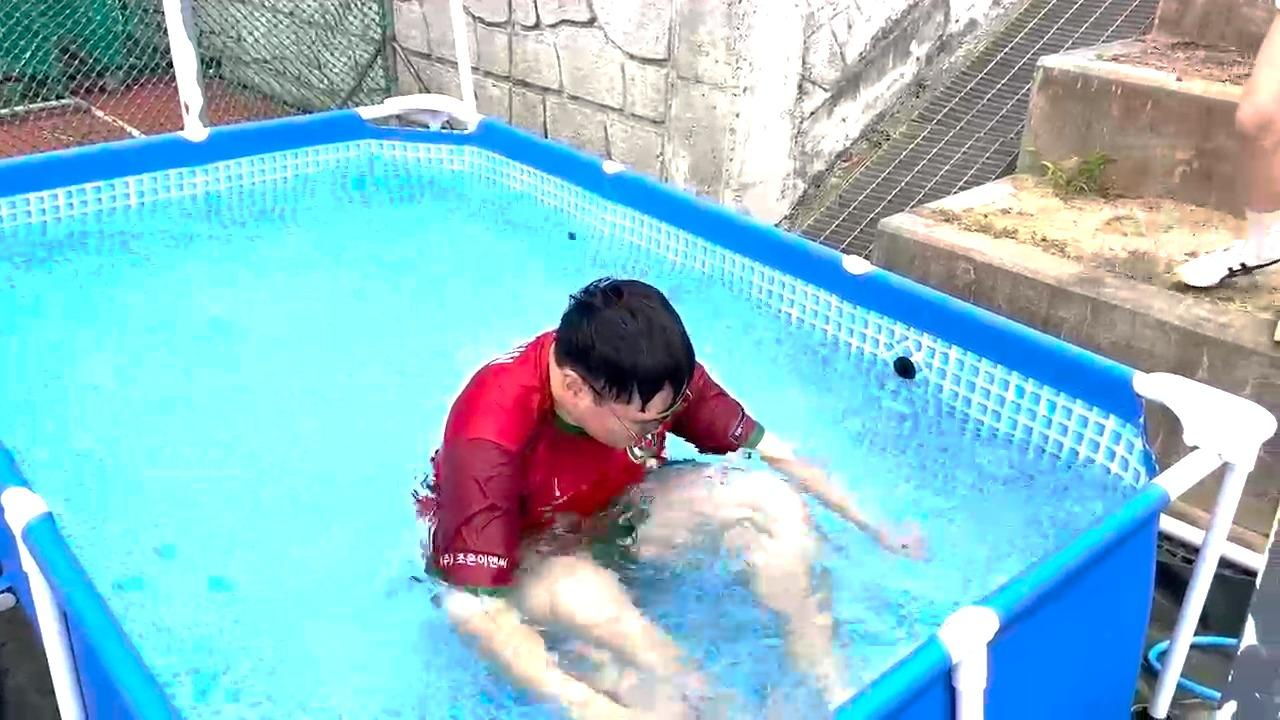Swimming: (323, 256, 915, 704)
